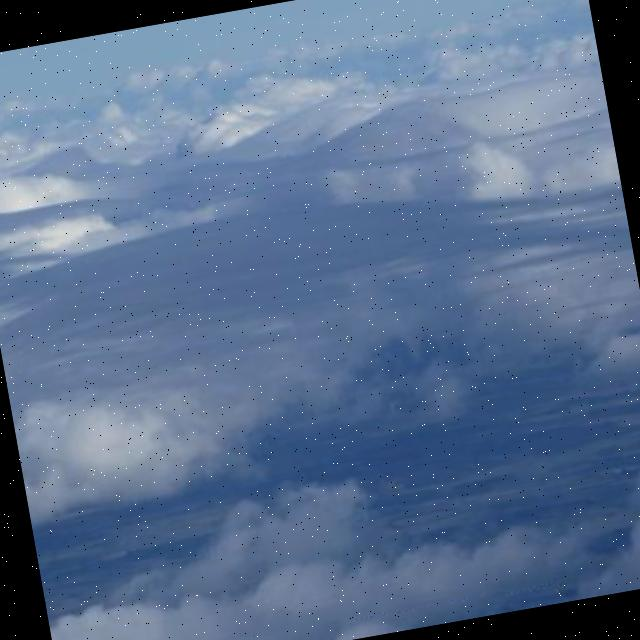Cu: (1, 1, 640, 580)
